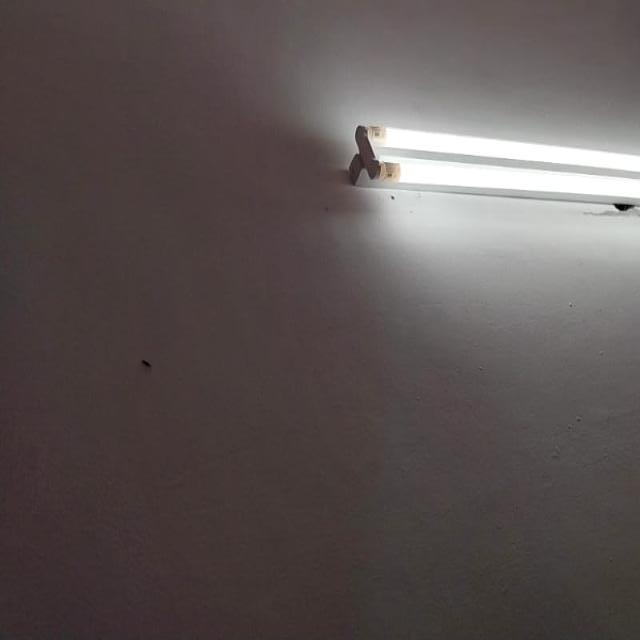fluorescent tube: (312, 86, 640, 249)
